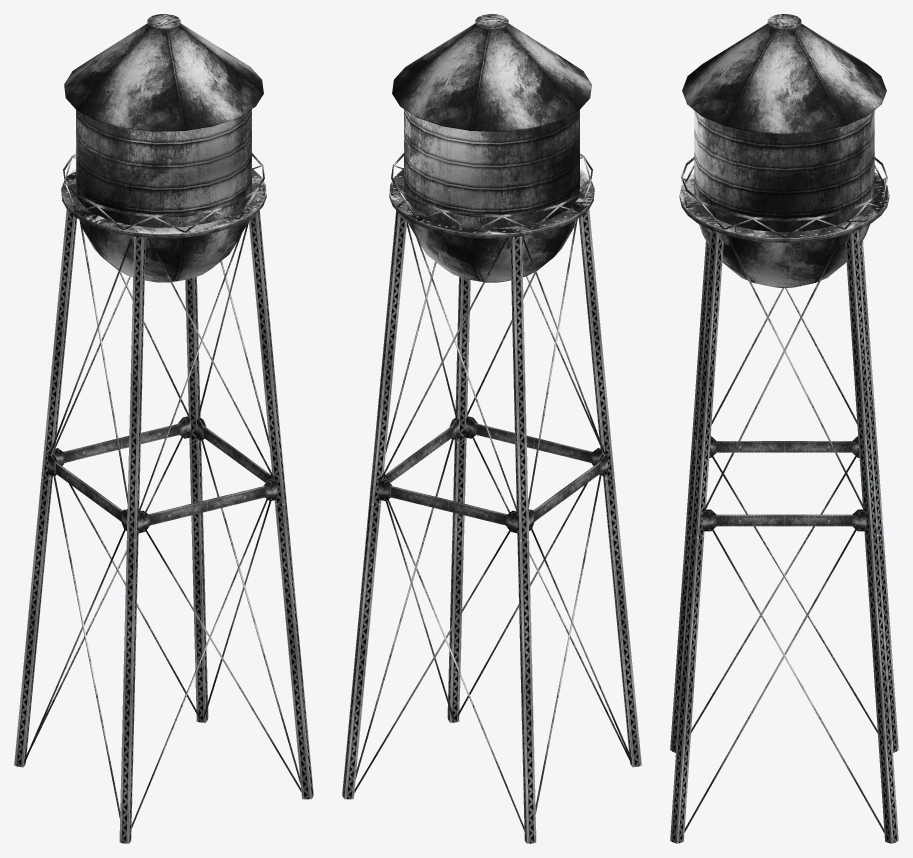
File: water_tower.glb
3 renders of one model, left to right at view 1: azimuth 30°, elevation 25°; view 2: azimuth 150°, elevation 25°; view 3: azimuth 270°, elevation 25°, orthographic.
Visible parts, largest first — view 1: Object025; view 2: Object025; view 3: Object025.
Boxes of the visible parts, <box> form: Object025: <box>14,14,313,843</box>; Object025: <box>342,14,641,843</box>; Object025: <box>670,14,898,843</box>.
Bounding box in the file's own units: 6.24 × 23.33 × 6.24.
1 material, 1 textured.
